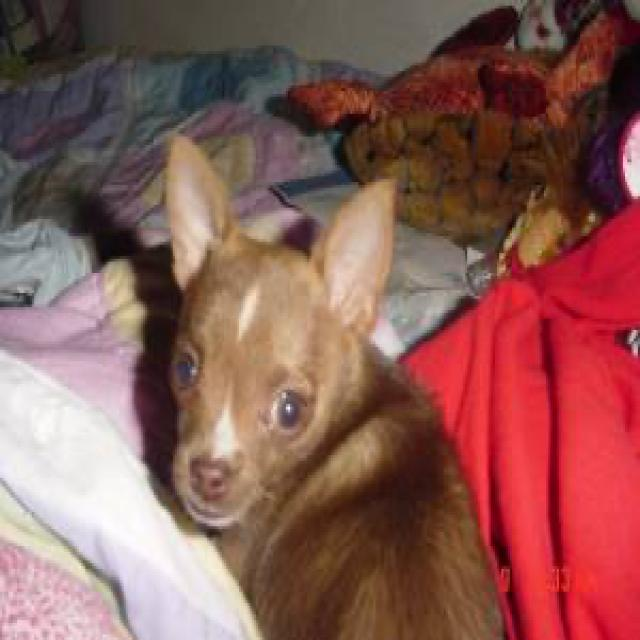dog: (164, 134, 393, 523)
